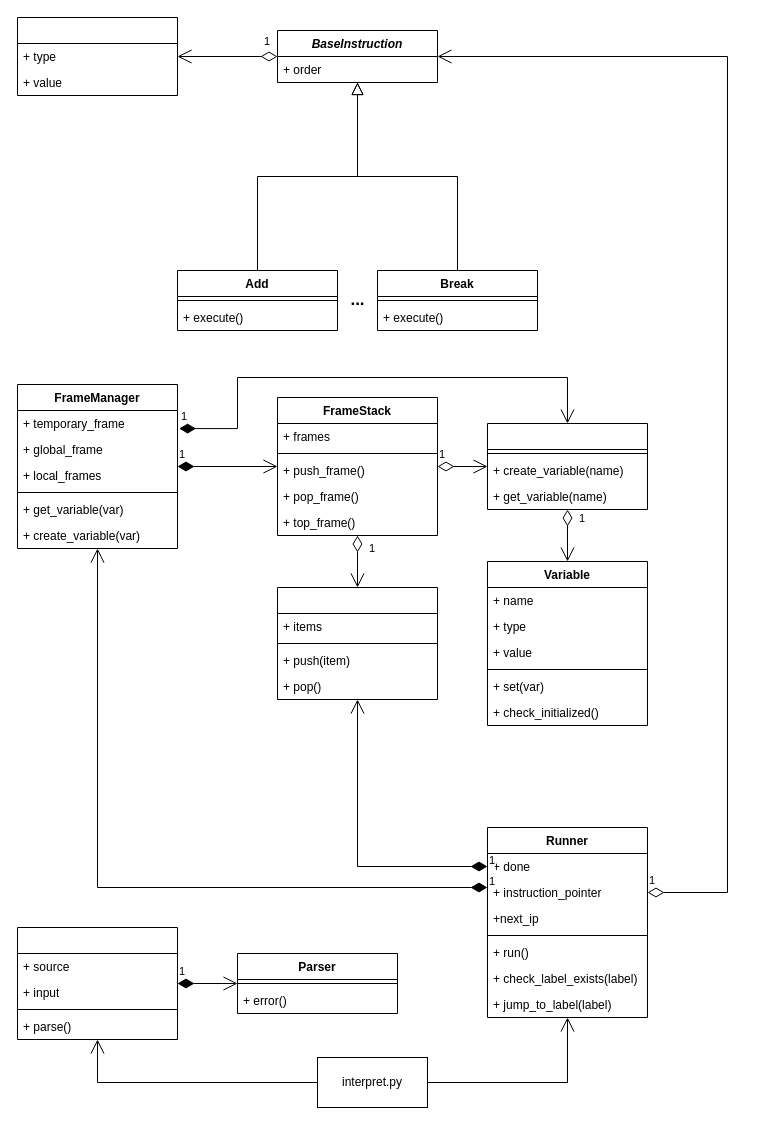
Image size: 762x1125. Some labels were removed from this diagram. Here are the shapes that lost their labels. From the top down, the box of each, then its label:
(16, 16, 178, 96): Argument
(486, 422, 648, 510): Frame
(276, 586, 438, 700): Stack
(16, 926, 178, 1040): Arguments
